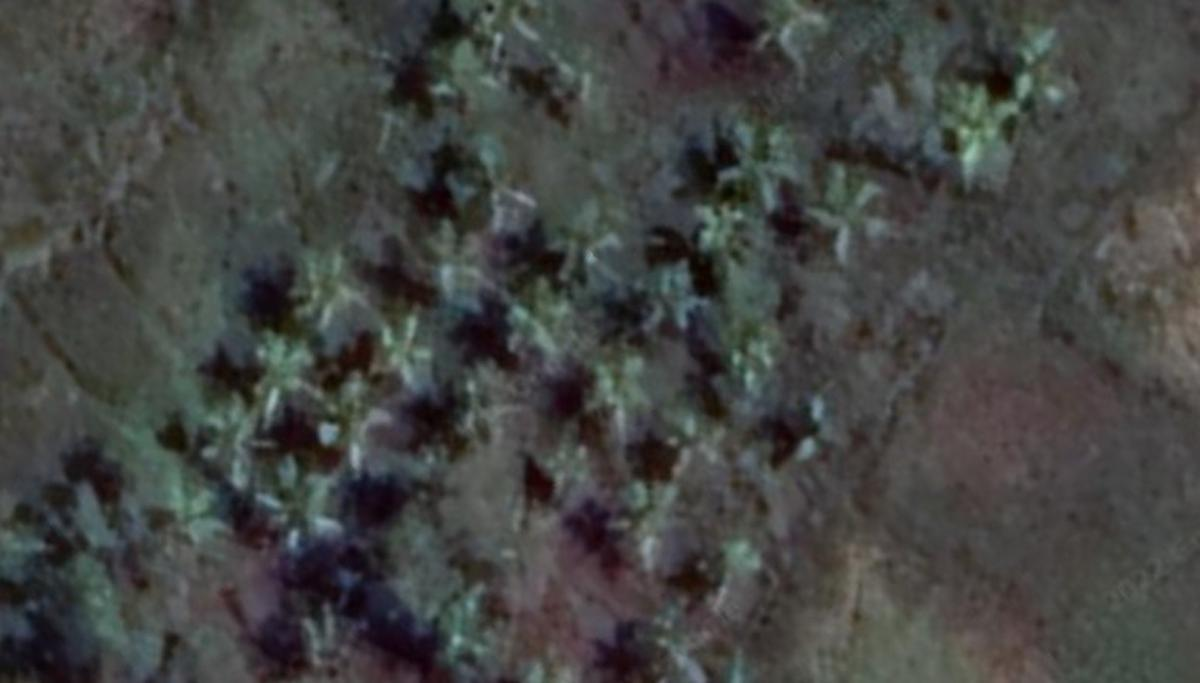coconut: (198, 402, 280, 504), (805, 169, 892, 263), (454, 150, 551, 232), (613, 478, 695, 575), (239, 330, 327, 420), (256, 459, 347, 546), (302, 375, 388, 462), (721, 124, 797, 221), (580, 353, 656, 450), (409, 221, 485, 308), (544, 200, 627, 279), (502, 282, 579, 367), (290, 253, 366, 339), (366, 305, 437, 384), (440, 363, 509, 440), (636, 262, 709, 332), (689, 203, 759, 270)
